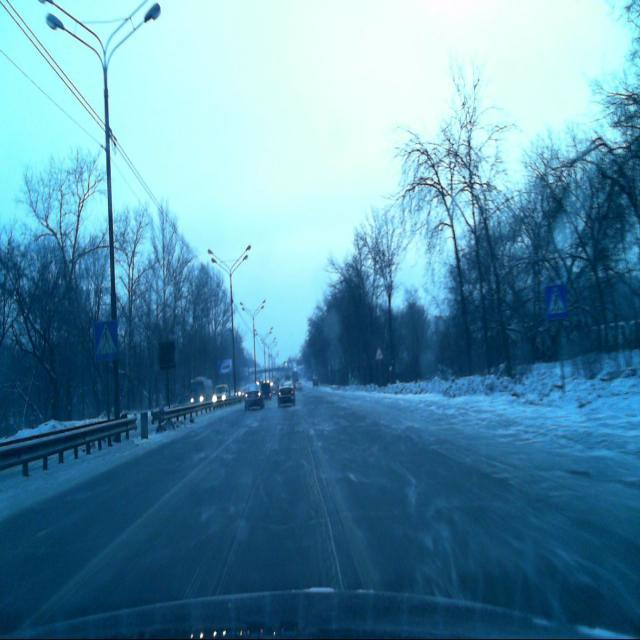object: (94, 320, 118, 364), (556, 324, 566, 398), (106, 370, 110, 421)
road sign: (544, 283, 566, 321)
